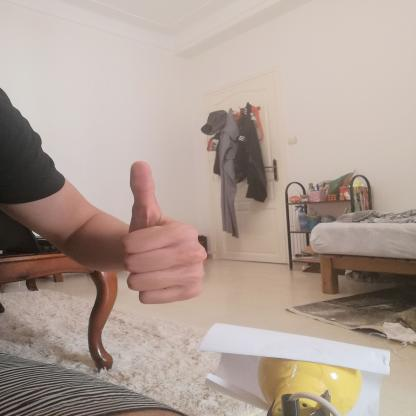ALIF: (95, 149, 225, 312)
